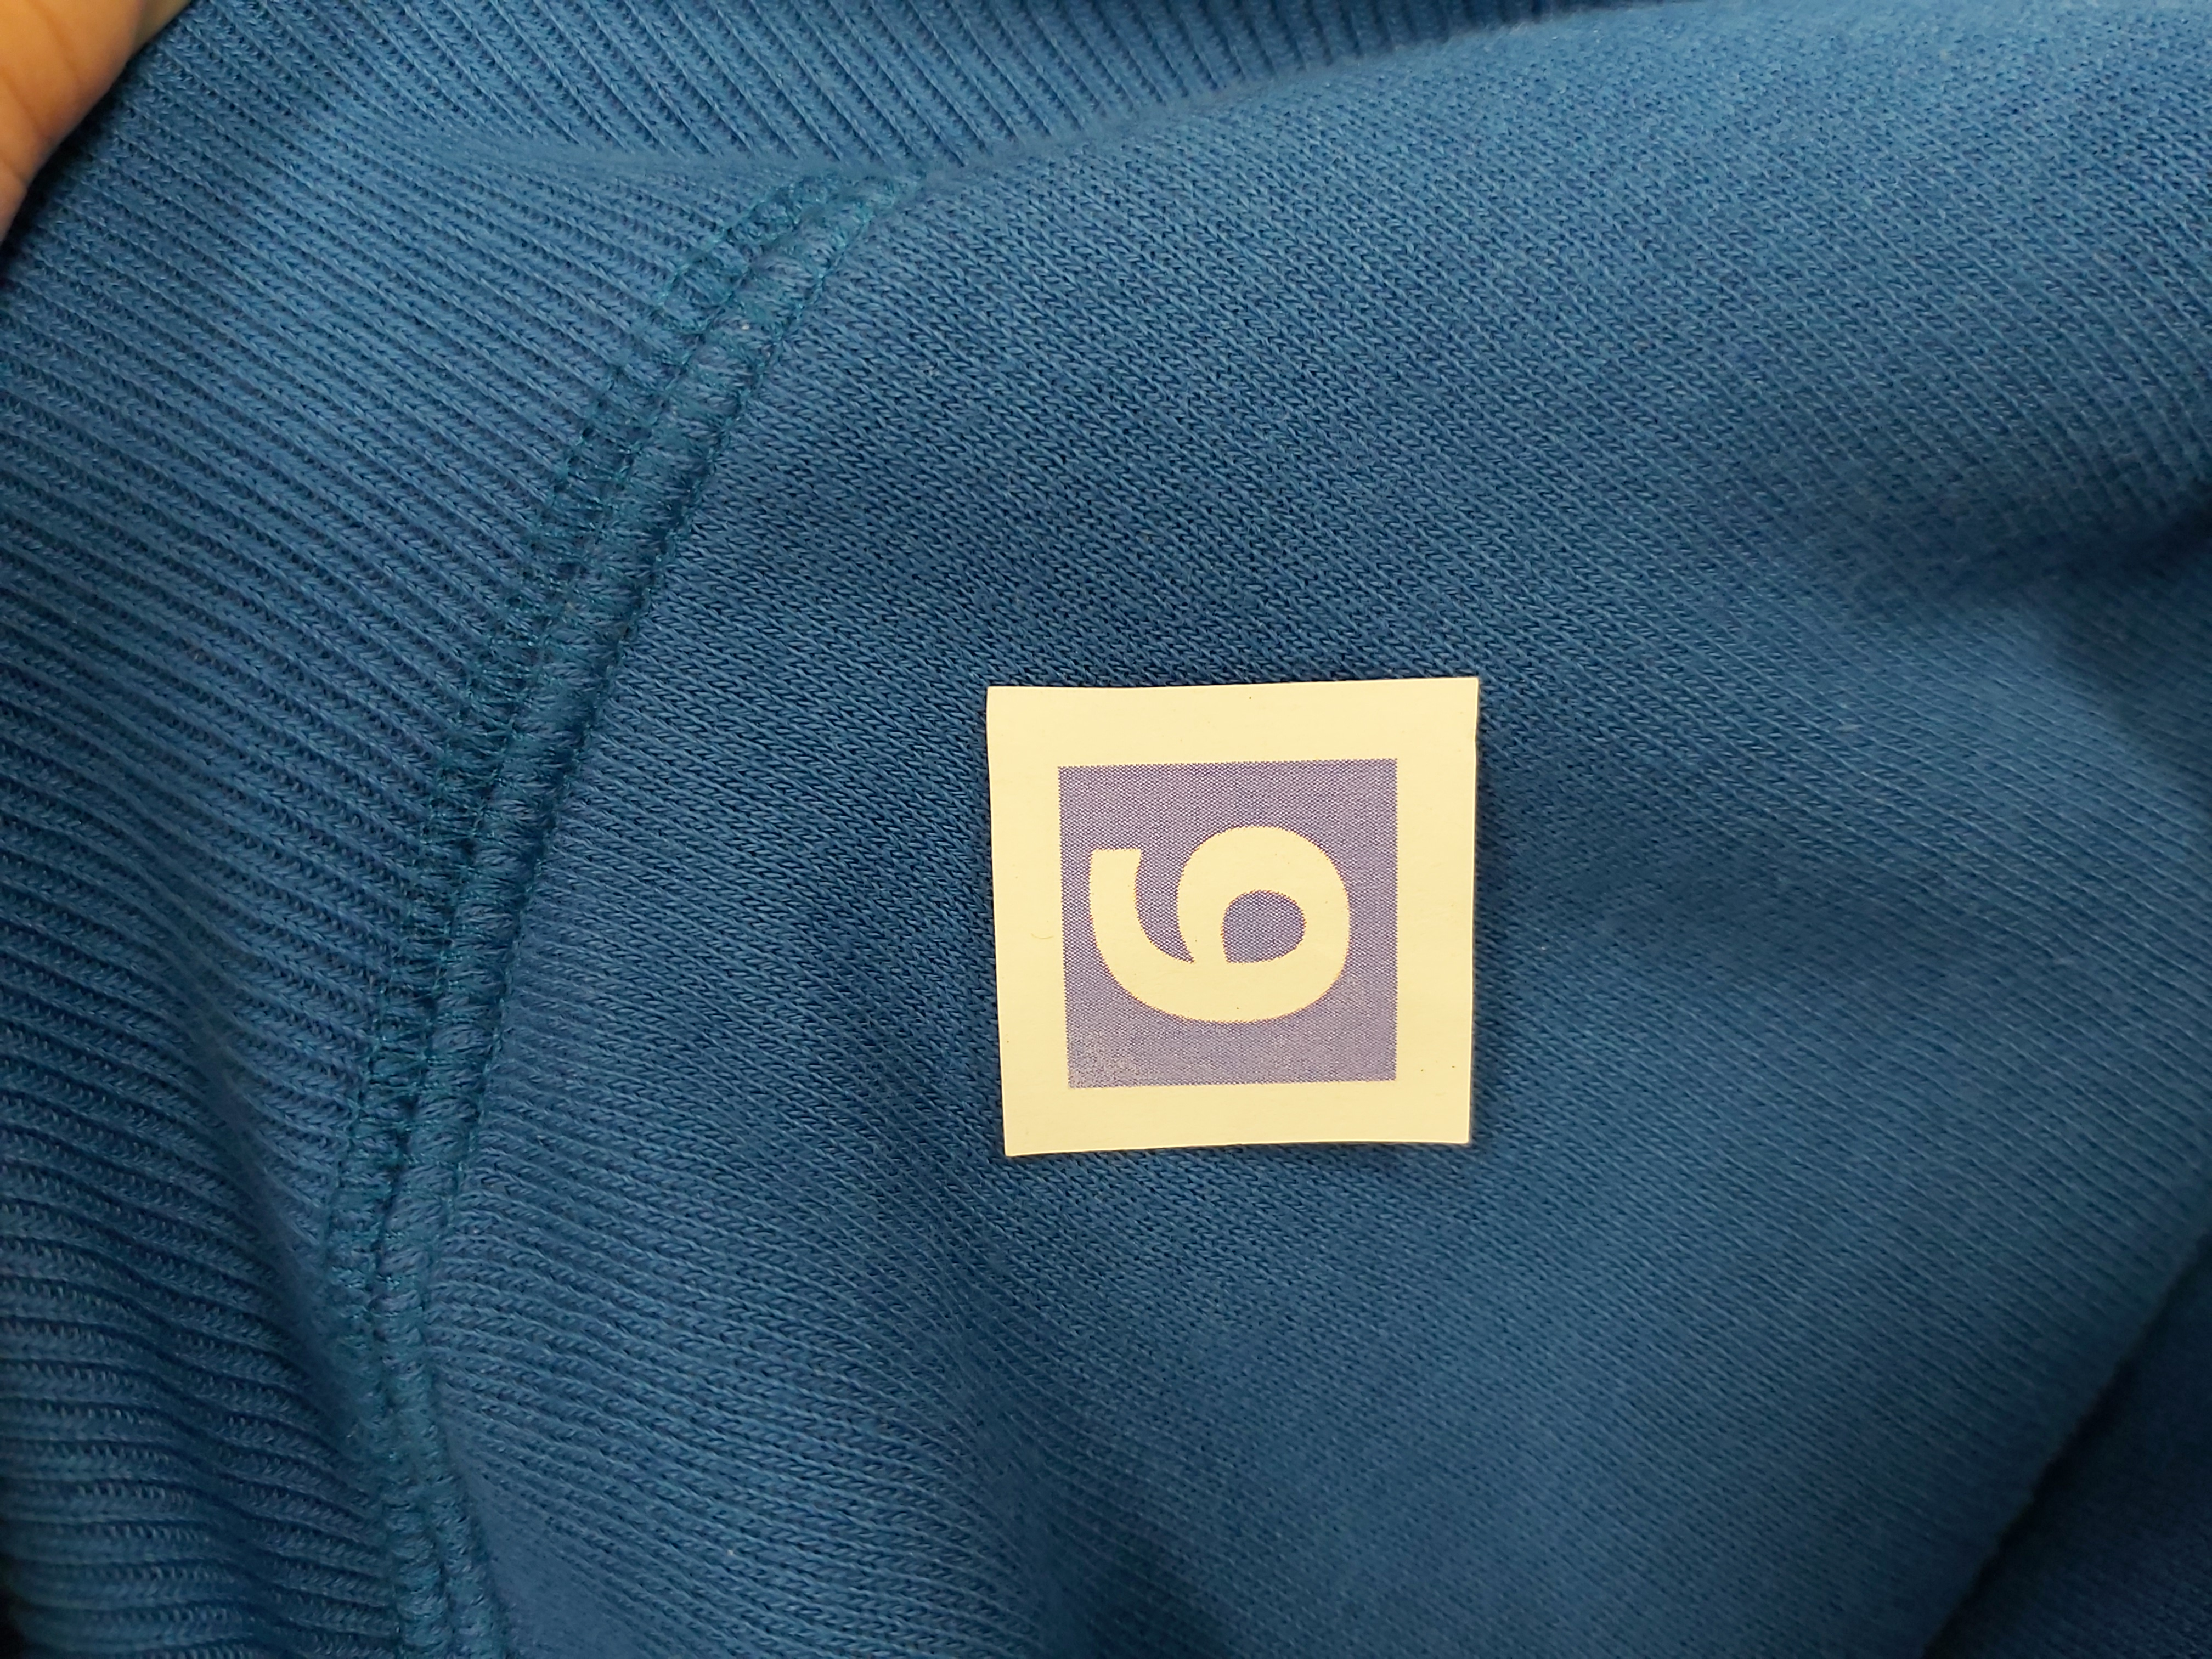blue marker: (965, 662, 1498, 1171)
